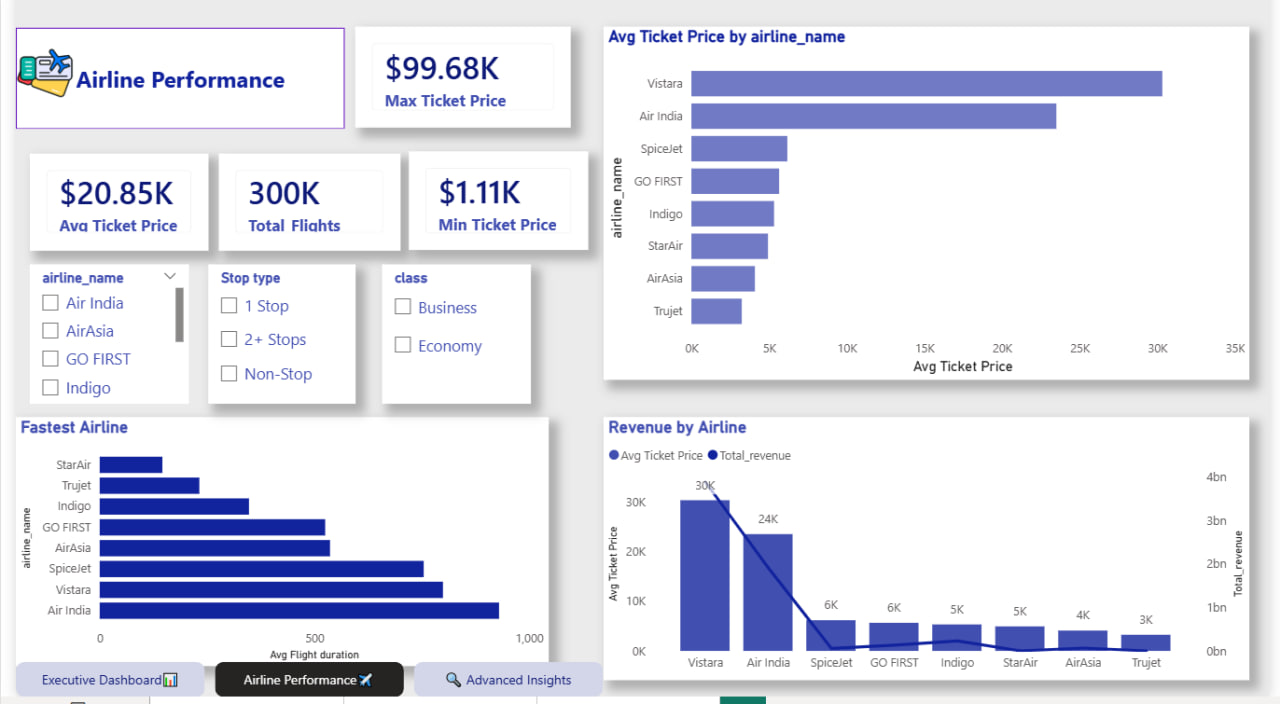

The page's visual inventory and layout, read from the dashboard file:
{"tool":"powerbi","page":{"name":"Airline Performance✈️","canvas":[1280,720],"ordinal":1},"visuals":[{"type":"cardVisual","fields":{"Data":["DAX measures.Max Ticket Price"]},"box":[306,18,220,104],"z":0},{"type":"cardVisual","fields":{"Data":["DAX measures.Avg Ticket Price"]},"box":[14,136,204,98],"z":1000},{"type":"cardVisual","fields":{"Data":["DAX measures.Total_Flights"]},"box":[306,136,220,98],"z":2000},{"type":"cardVisual","fields":{"Data":["DAX measures.Min Ticket Price"]},"box":[14,18,204,104],"z":3000},{"type":"lineClusteredColumnComboChart","title":"Revenue by Airline","fields":{"Category":["airlines.airline_name"],"Y":["DAX measures.Avg Ticket Price"],"Y2":["DAX measures.Total_revenue"]},"box":[584,434,676,270],"z":4000},{"type":"clusteredBarChart","title":"Fastest Airline","fields":{"Y":["DAX measures.Avg Flight duration"],"Category":["airlines.airline_name"]},"box":[0,434,544,254],"z":5000},{"type":"slicer","fields":{"Values":["flights.class"]},"box":[374,278,152,142],"z":6000},{"type":"slicer","fields":{"Values":["flights.N Stop "]},"box":[196,278,150,142],"z":7000},{"type":"barChart","fields":{"Category":["airlines.airline_name"],"Y":["DAX measures.Avg Ticket Price"]},"box":[584,36,676,360],"z":8000},{"type":"slicer","fields":{"Values":["airlines.airline_name"]},"box":[14,278,162,142],"z":9000},{"type":"pageNavigator","box":[0,684,600,36],"z":10000}]}

Visuals, with their boxes in screenshot pixels (x1, y1, x2, y2), scaled from the page's 1280x720 canvas onto the 1280x704 screenshot:
cardVisual - DAX measures.Max Ticket Price: (left=306, top=18, right=526, bottom=119)
cardVisual - DAX measures.Avg Ticket Price: (left=14, top=133, right=218, bottom=229)
cardVisual - DAX measures.Total_Flights: (left=306, top=133, right=526, bottom=229)
cardVisual - DAX measures.Min Ticket Price: (left=14, top=18, right=218, bottom=119)
"Revenue by Airline" lineClusteredColumnComboChart: (left=584, top=424, right=1260, bottom=688)
"Fastest Airline" clusteredBarChart: (left=0, top=424, right=544, bottom=673)
slicer - flights.class: (left=374, top=272, right=526, bottom=411)
slicer - flights.N Stop : (left=196, top=272, right=346, bottom=411)
barChart - airlines.airline_name x DAX measures.Avg Ticket Price: (left=584, top=35, right=1260, bottom=387)
slicer - airlines.airline_name: (left=14, top=272, right=176, bottom=411)
pageNavigator: (left=0, top=669, right=600, bottom=703)
